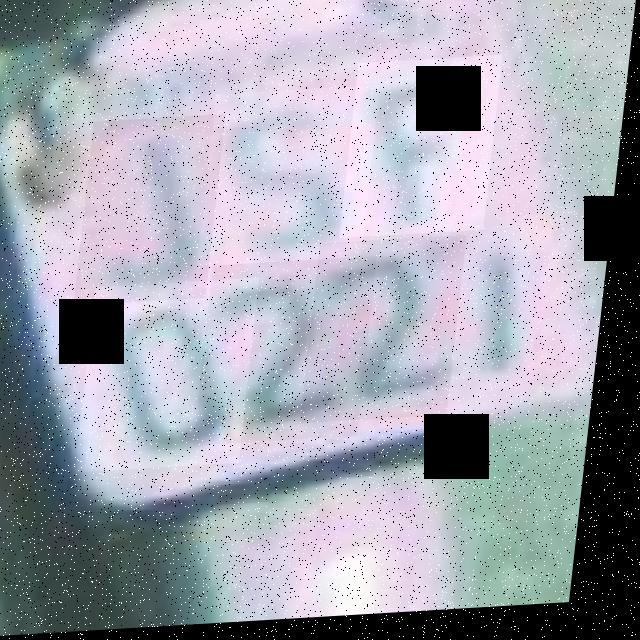0: (86, 281, 266, 474)
2: (204, 261, 384, 449), (310, 241, 473, 428)
F: (345, 61, 505, 243)
J: (81, 117, 229, 307)
S: (204, 90, 383, 269)
